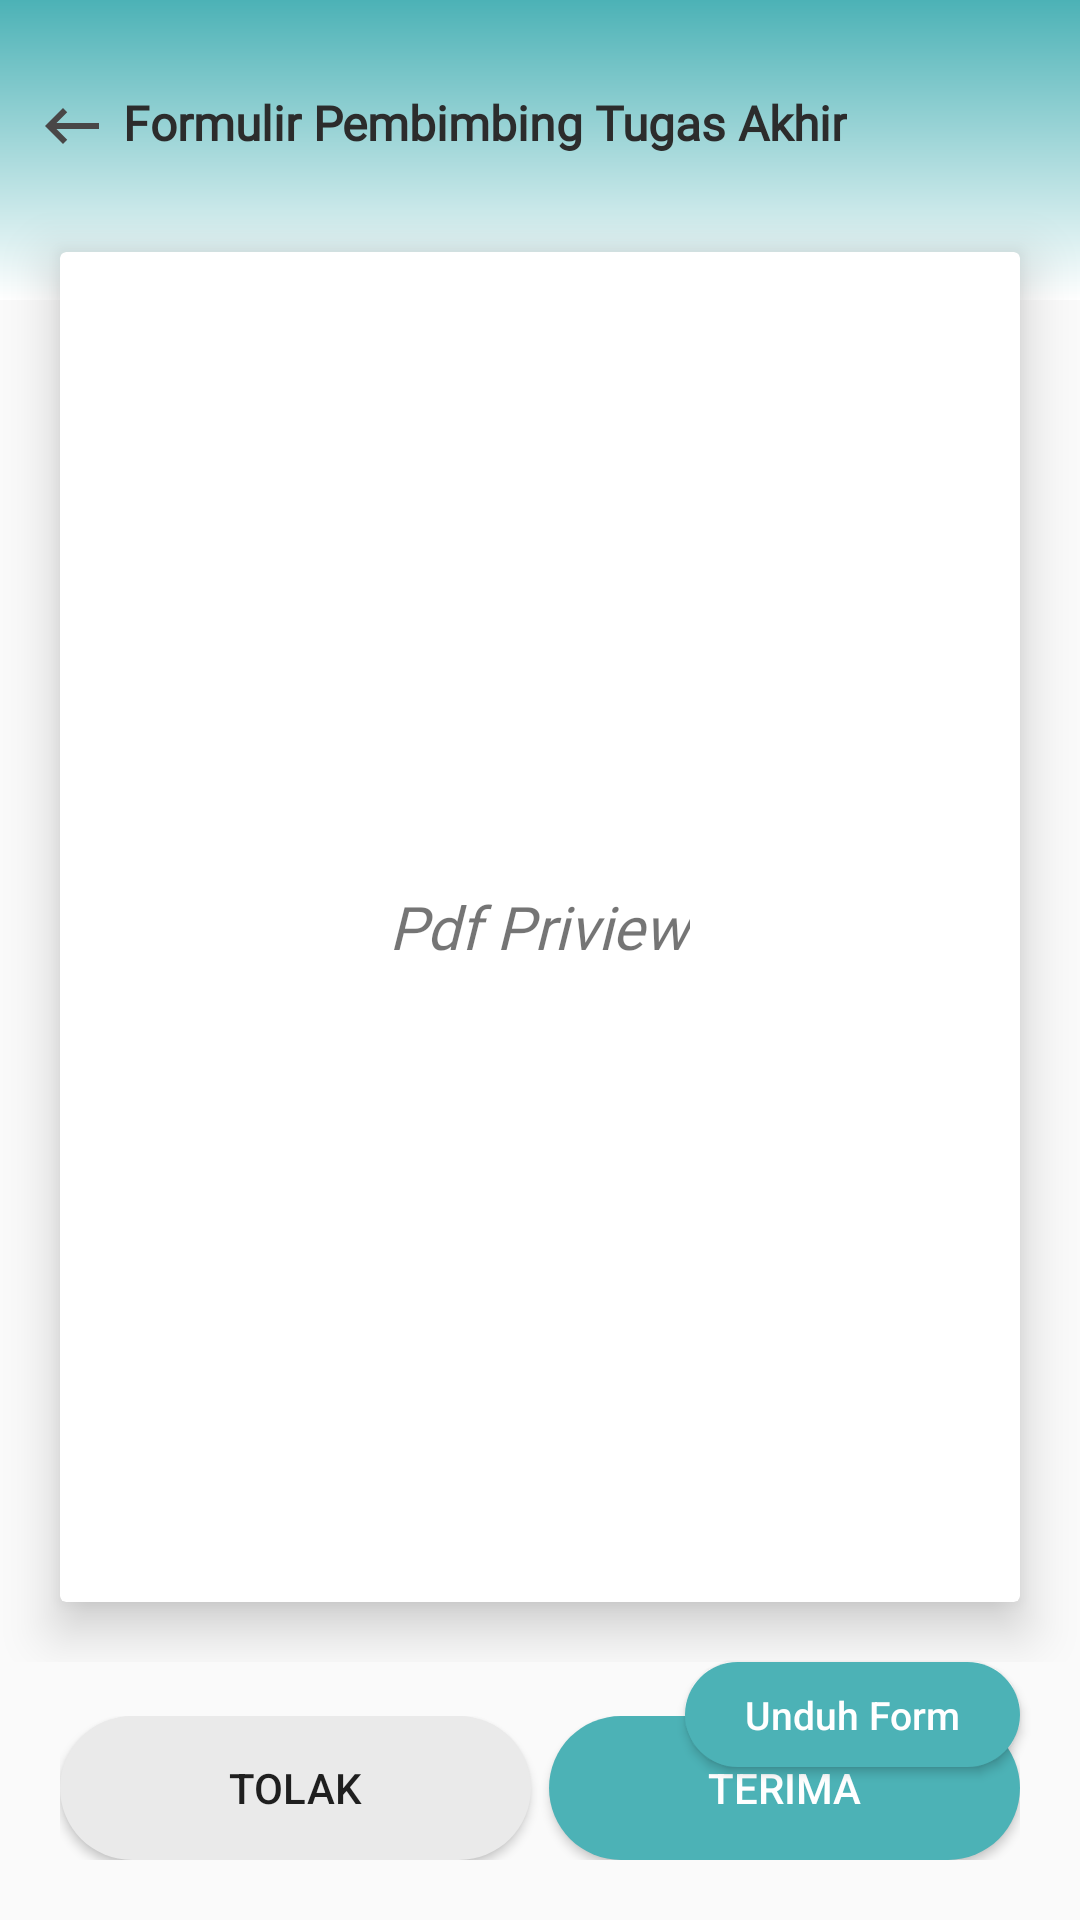

Point at icon controls on the screen. Image size 1080x1920, points as point (x, y).
keyboard backspace: point (72, 126)
